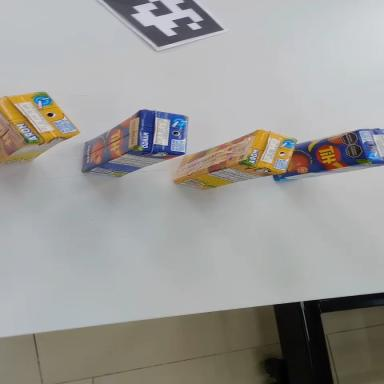HIT-MANGO: (69, 96, 199, 188), (268, 126, 384, 183)
HIT-MORA: (168, 123, 301, 196), (0, 86, 82, 167)
cara_F: (70, 110, 155, 172), (268, 129, 369, 180), (167, 130, 265, 181), (0, 105, 29, 166)
